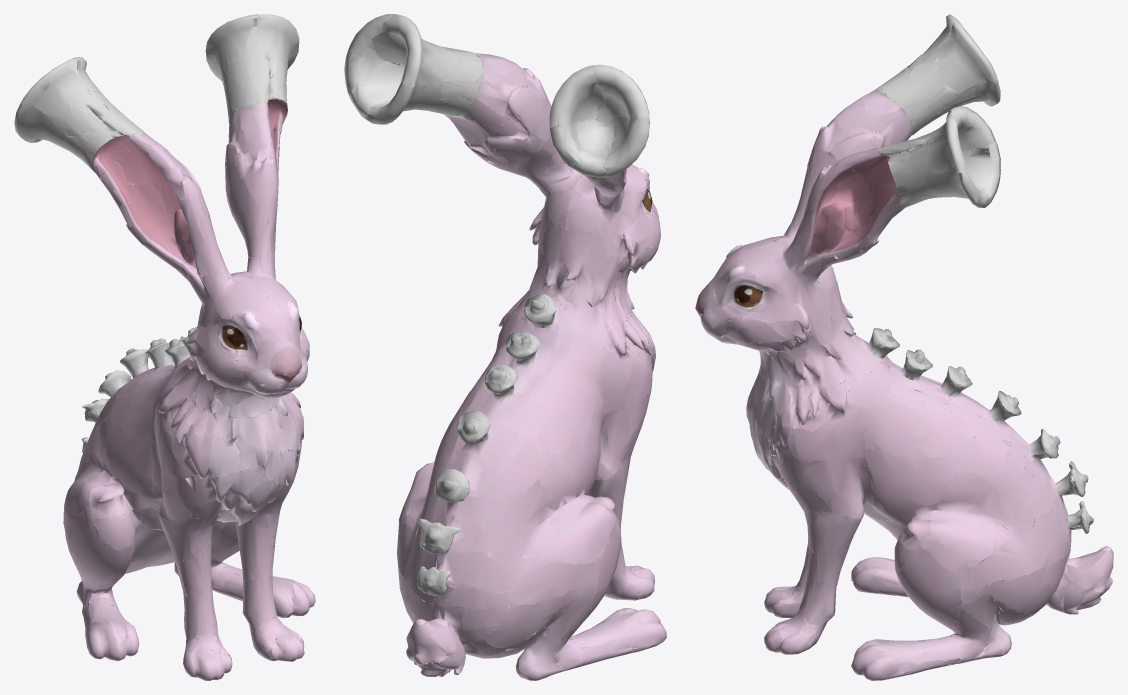
3 renders of one model, left to right at view 1: azimuth 30°, elevation 25°; view 2: azimuth 150°, elevation 25°; view 3: azimuth 270°, elevation 25°, orthographic. The views are drawn at different scales.
Visible parts, largest first — view 1: Mesh_0; view 2: Mesh_0; view 3: Mesh_0.
Boxes of the visible parts, x1,y1,x2,y2 form: Mesh_0: (14,14,315,680); Mesh_0: (344,14,666,680); Mesh_0: (695,14,1113,680).
Size of the model in its own units: 0.992 by 1.9 by 1.28.
Materials: 1 (1 with a texture image).
